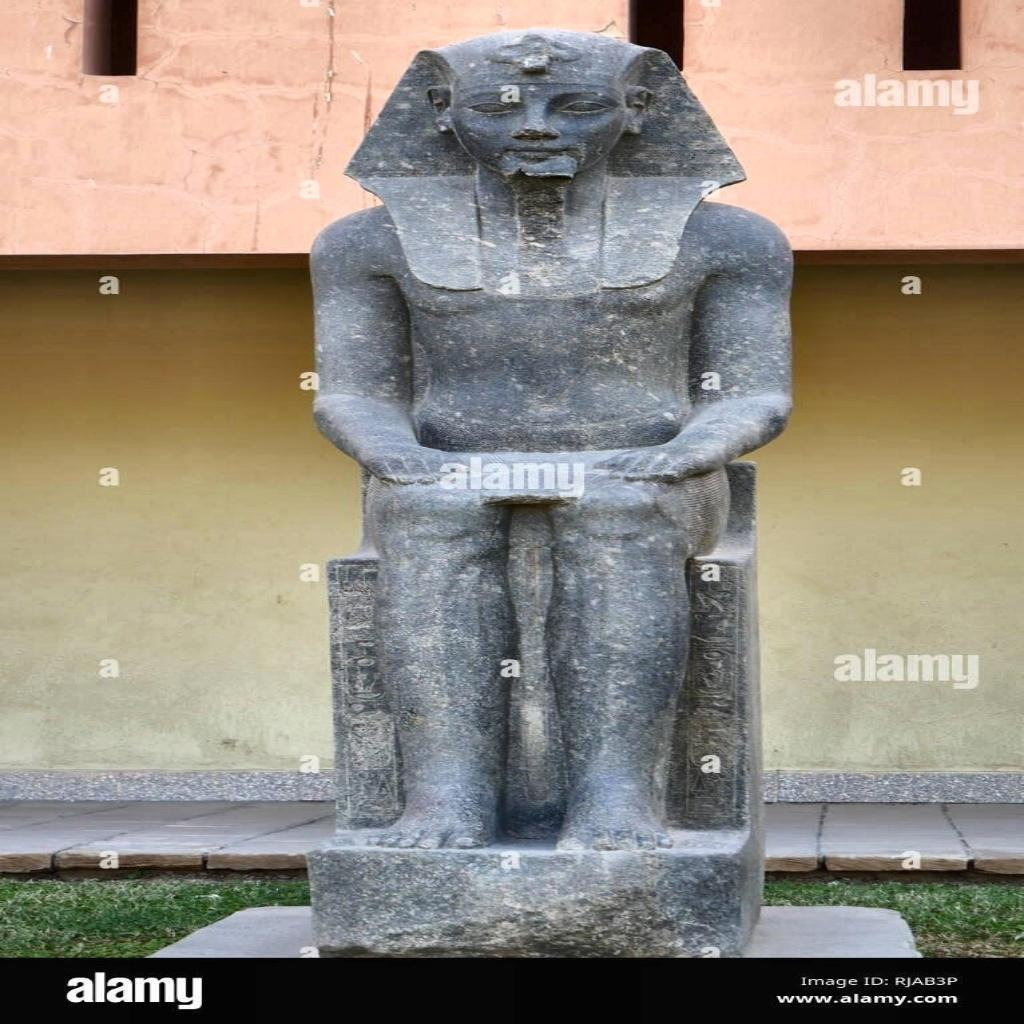Amenhotep III: (300, 26, 800, 856)
